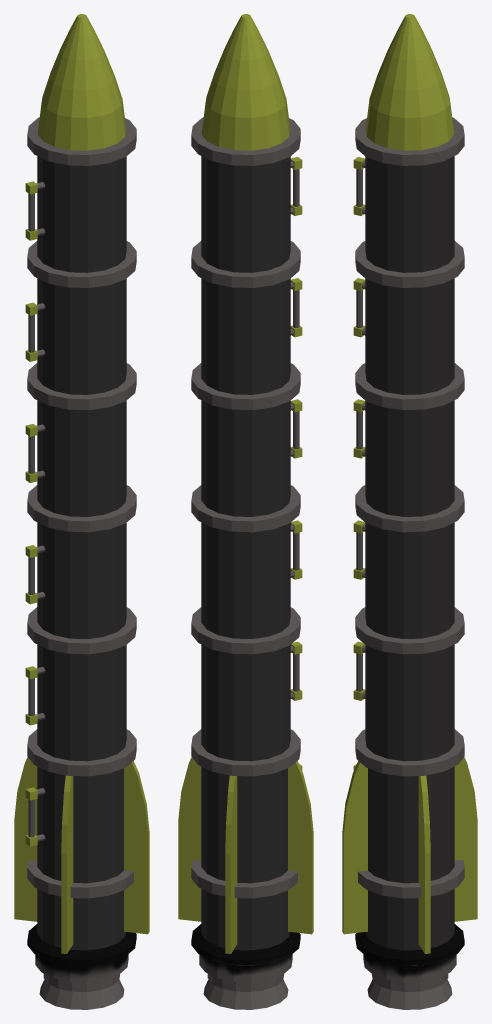
Rendered from missileLV4.fbx.
The picture shows the model from 3 angles, left to right: view 1: azimuth 30°, elevation 25°; view 2: azimuth 210°, elevation 25°; view 3: azimuth 330°, elevation 25°; orthographic projection.
Visible parts, largest first — view 1: r4; view 2: r4; view 3: r4.
Boxes of the visible parts, box(x1,y1,x2,y2) form: r4: box(14, 14, 149, 1009); r4: box(178, 14, 313, 1009); r4: box(342, 14, 477, 1009).
Size of the model in its own units: 262 by 2398 by 246.
1 material, 1 textured.
